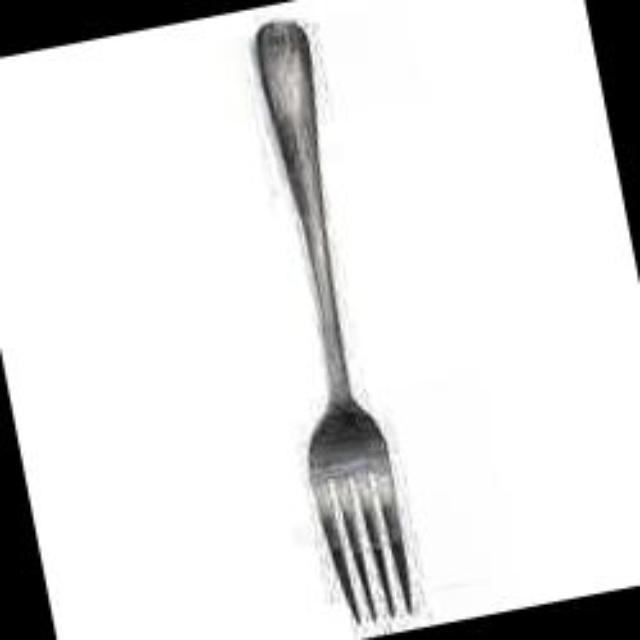Fork: (256, 21, 412, 622)
